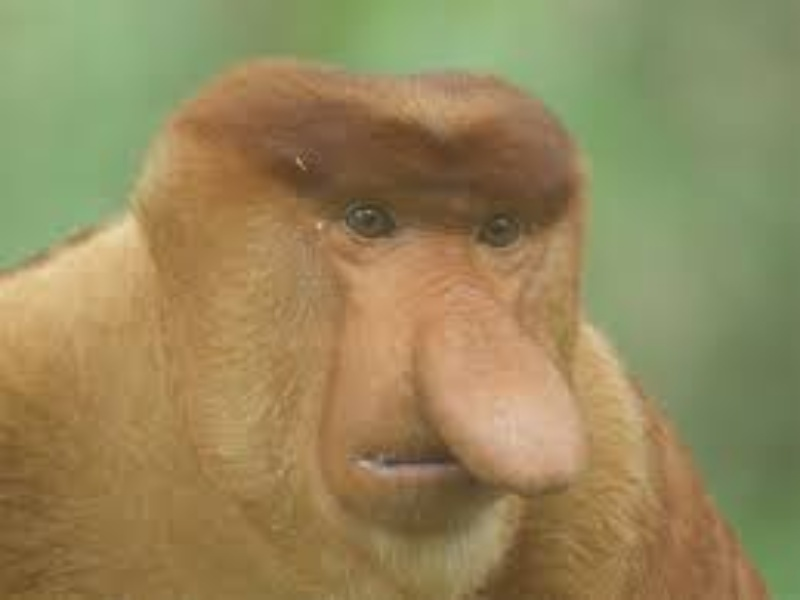monkey: (49, 15, 761, 600)
